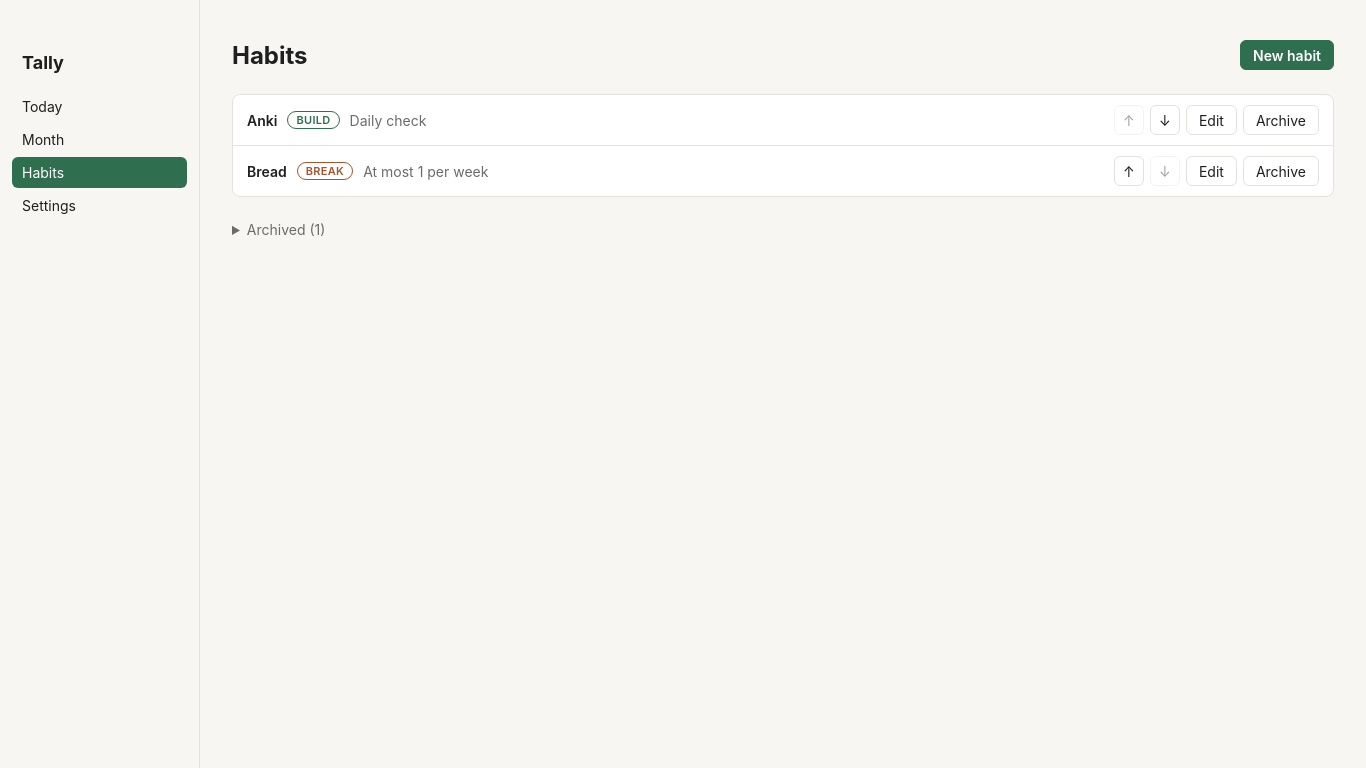
Test case: HabitsPage › archives and unarchives a habit
Click the button with aria-label "Archive Anki": (1281, 120) [1243,105,1319,135]
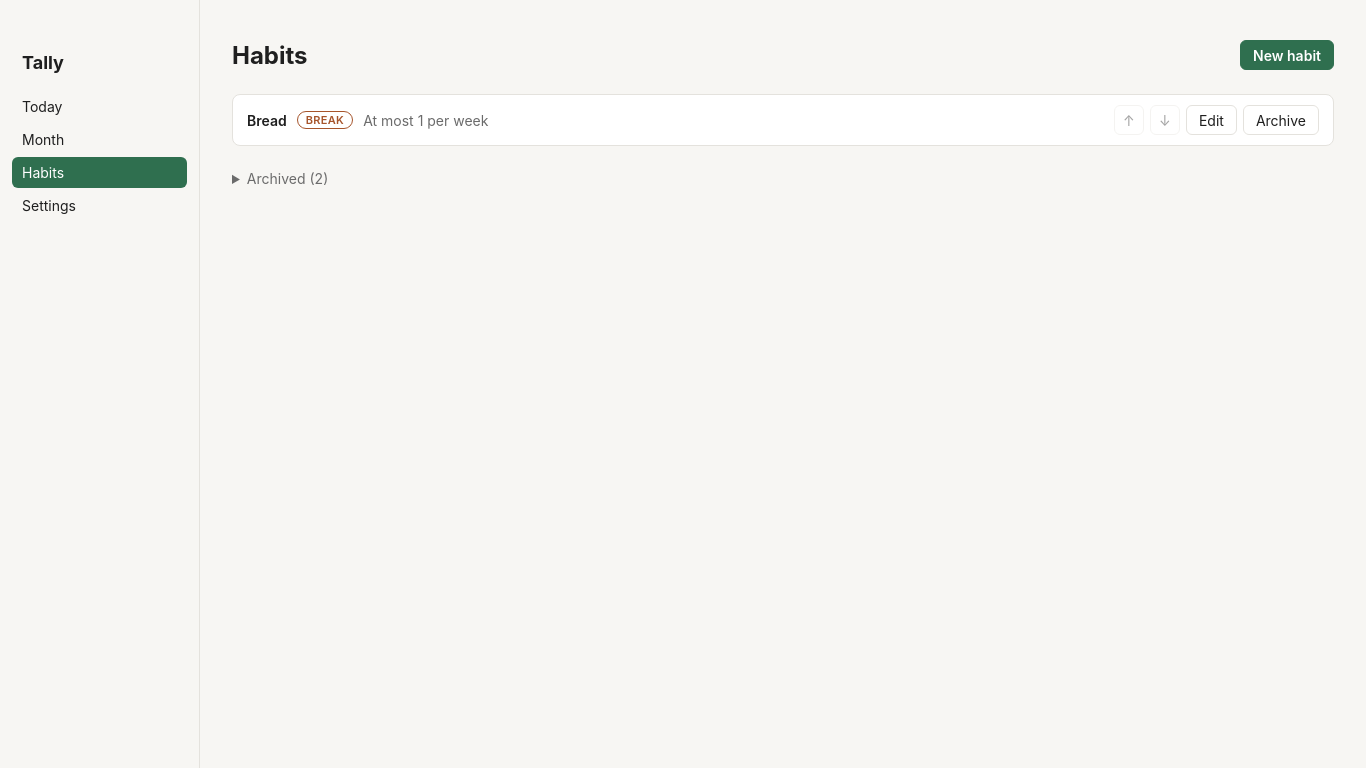
expect the heading "Archived (2)" is shown: met
Click the heading "Archived (2)": (288, 178) [247,170,328,187]
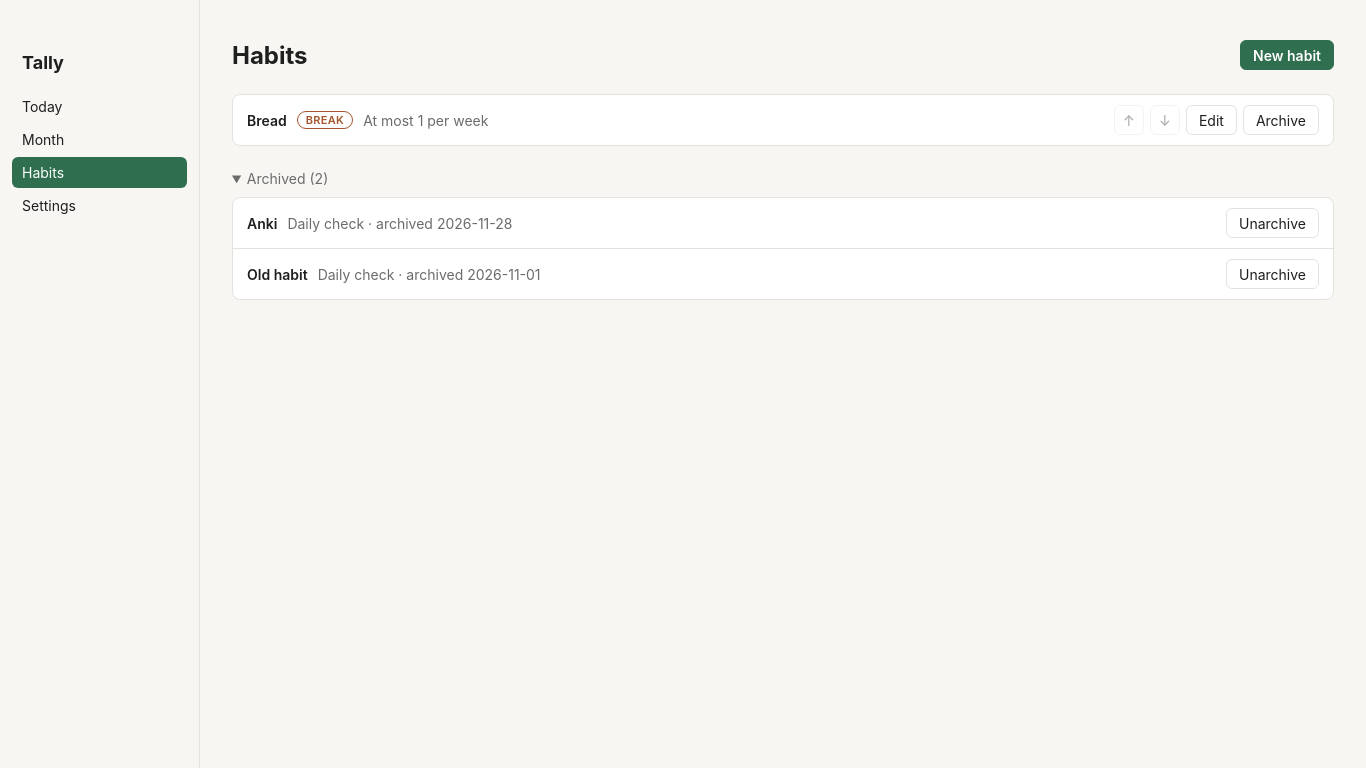
Click the button with aria-label "Unarchive Anki": (1272, 223) [1226,208,1319,238]
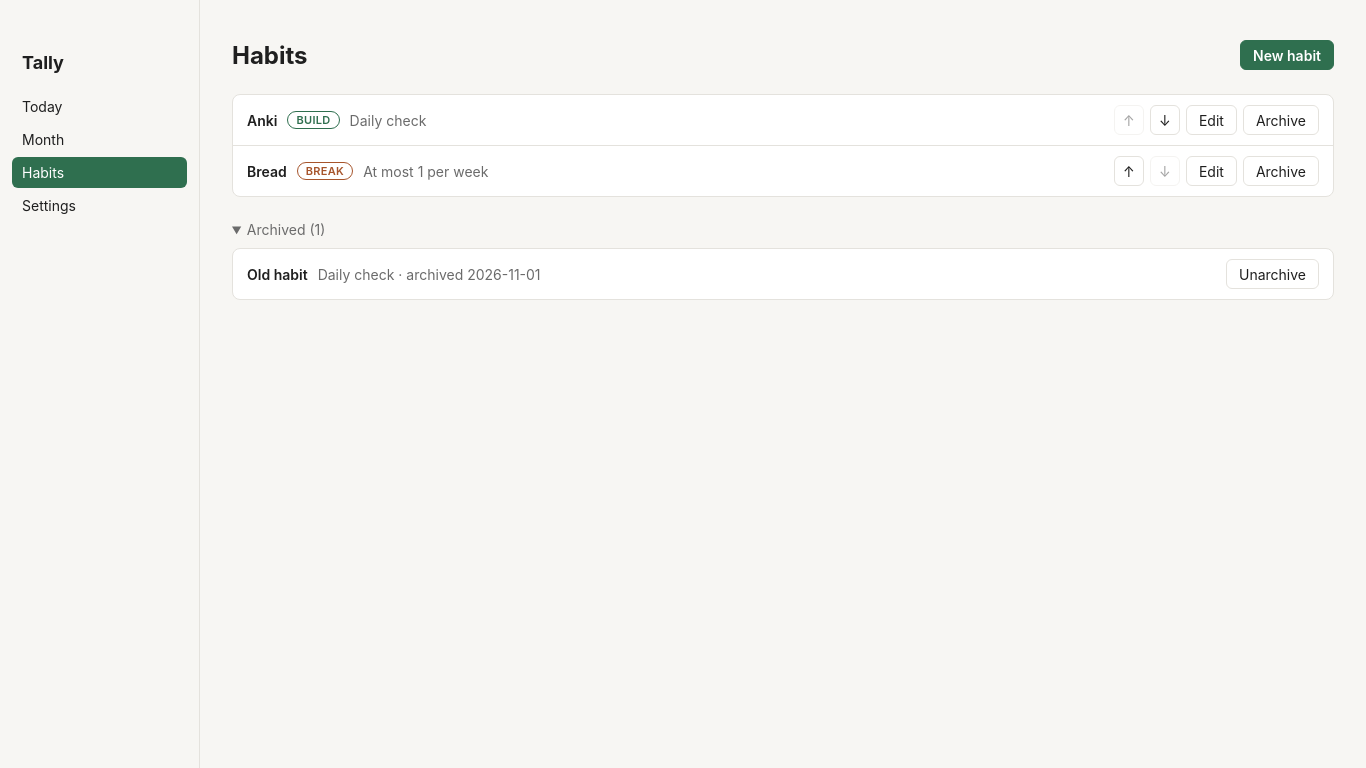
expect the heading "Archived (1)" is shown: met, box [247,221,325,238]
